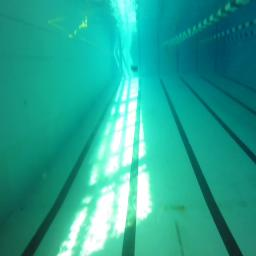Full: (131, 66, 138, 72)
